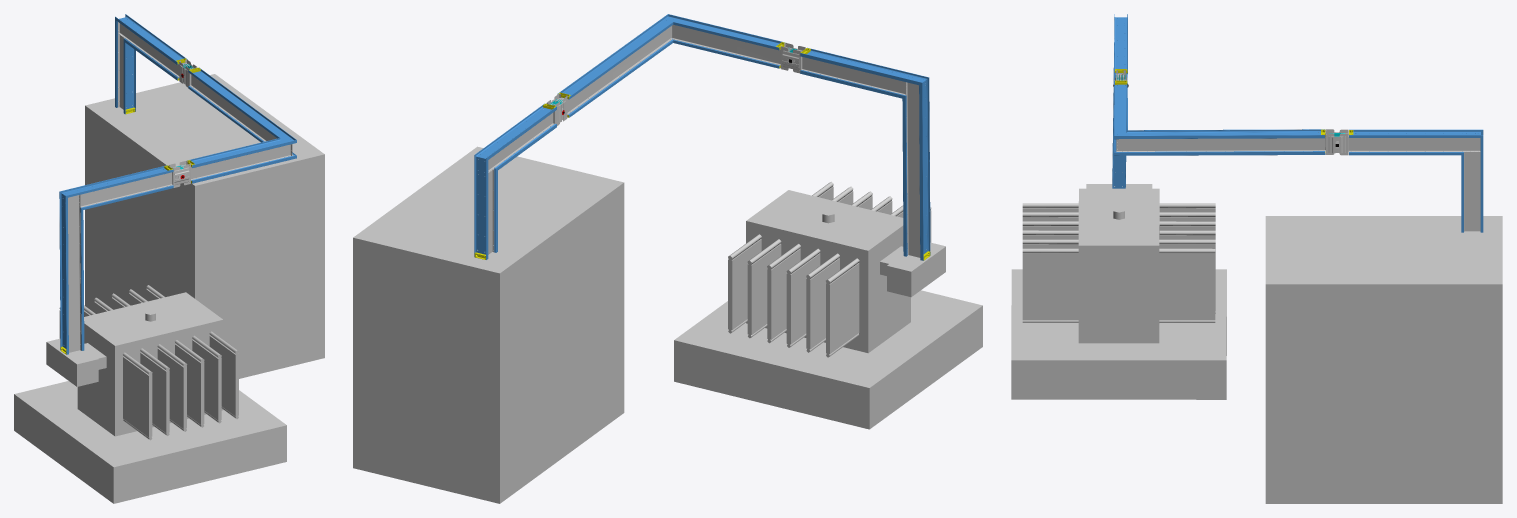
The model's file is BuswayRun.fbx.
The picture shows the model from 3 angles, left to right: view 1: azimuth 30°, elevation 25°; view 2: azimuth 150°, elevation 25°; view 3: azimuth 270°, elevation 25°; orthographic projection. The views are drawn at different scales.
Visible parts, largest first — view 1: Empty; view 2: Empty; view 3: Empty.
Part boxes in pixels (<box>): Empty: <box>14,14,324,503</box>; Empty: <box>353,14,982,503</box>; Empty: <box>1011,14,1502,503</box>.
Bounding box in the file's own units: 1.53 × 1.3 × 1.83.
